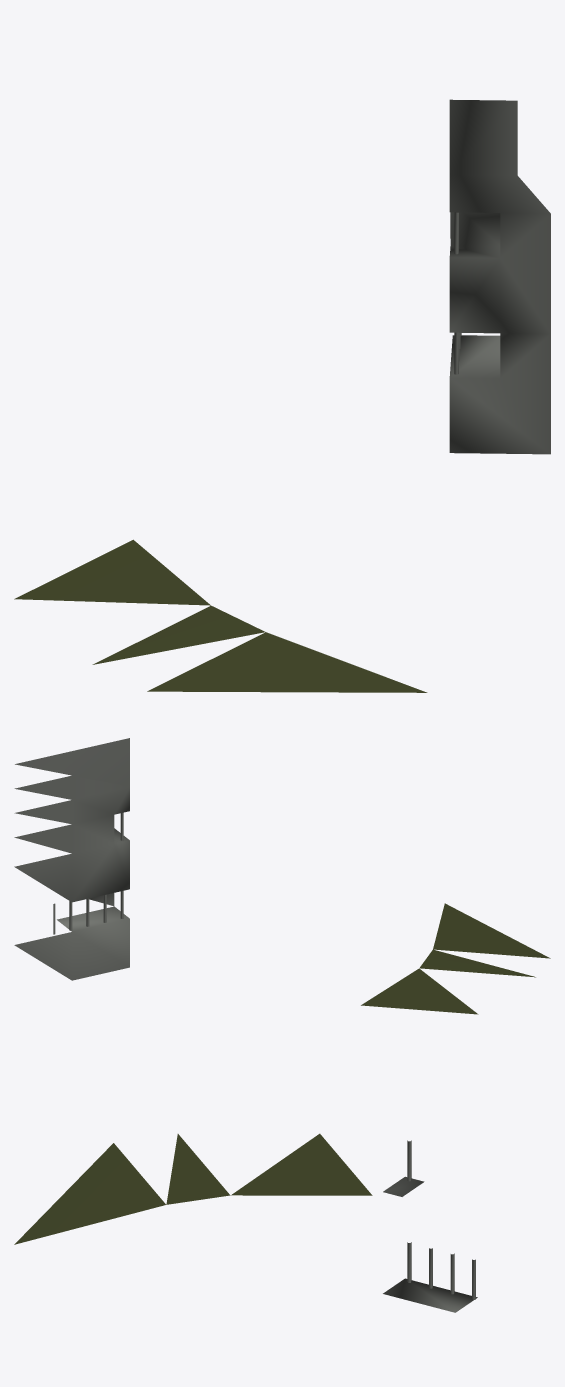
3 renders of one model, top to bottom at view 1: azimuth 30°, elevation 25°; view 2: azimuth 150°, elevation 25°; view 3: azimuth 270°, elevation 25°, orthographic. The views are drawn at different scales.
Visible parts, largest first — view 1: merged__lod1; view 2: merged__lod1; view 3: merged__lod1.
Boxes of the visible parts, bbox=[...] form: merged__lod1: bbox=[14, 99, 550, 692]; merged__lod1: bbox=[14, 738, 550, 1014]; merged__lod1: bbox=[14, 1133, 477, 1312].
Size of the model in its own units: 243 by 144 by 229.
